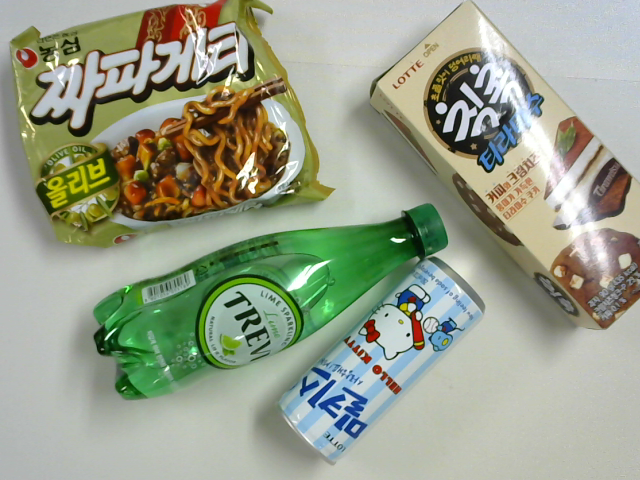Chicchok_Tiramisu: (369, 1, 640, 331)
Milkies_250ml: (273, 255, 485, 468)
Olive_Chapaghetti: (8, 1, 337, 249)
Treviraim_500ml: (94, 203, 448, 399)
